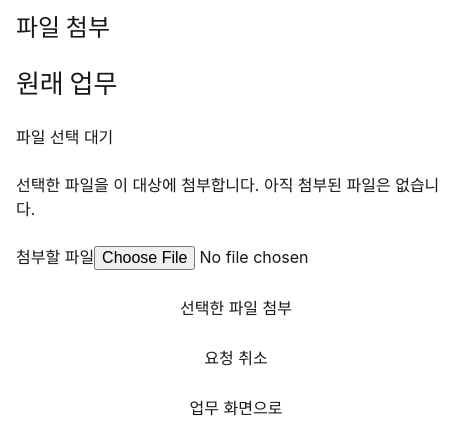
Test: keeps cancellation distinct from success
Expected: the text "파일 선택 대기" is shown, [16, 127, 113, 147]
Click the button "요청 취소" at [236, 357], box [16, 344, 456, 370]
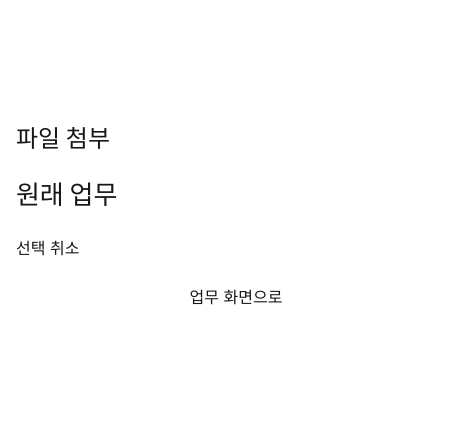
Expected: the text "선택 취소" is shown, [16, 238, 79, 258]
